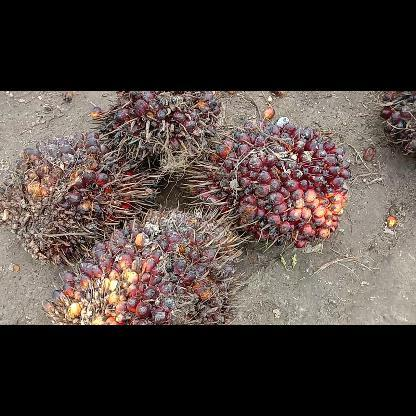TBS masak: (43, 204, 247, 324), (181, 122, 350, 250), (0, 132, 156, 264), (91, 90, 221, 170)
